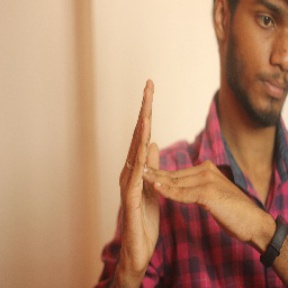Z: (110, 73, 251, 272)
